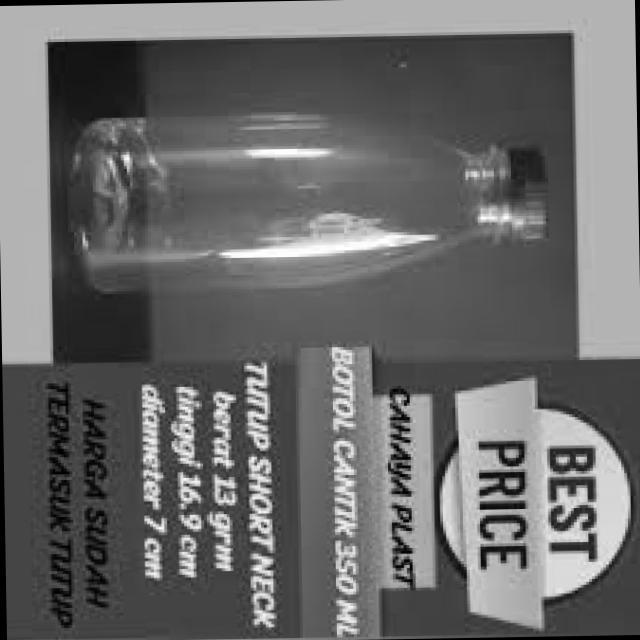good: (78, 112, 556, 284)
